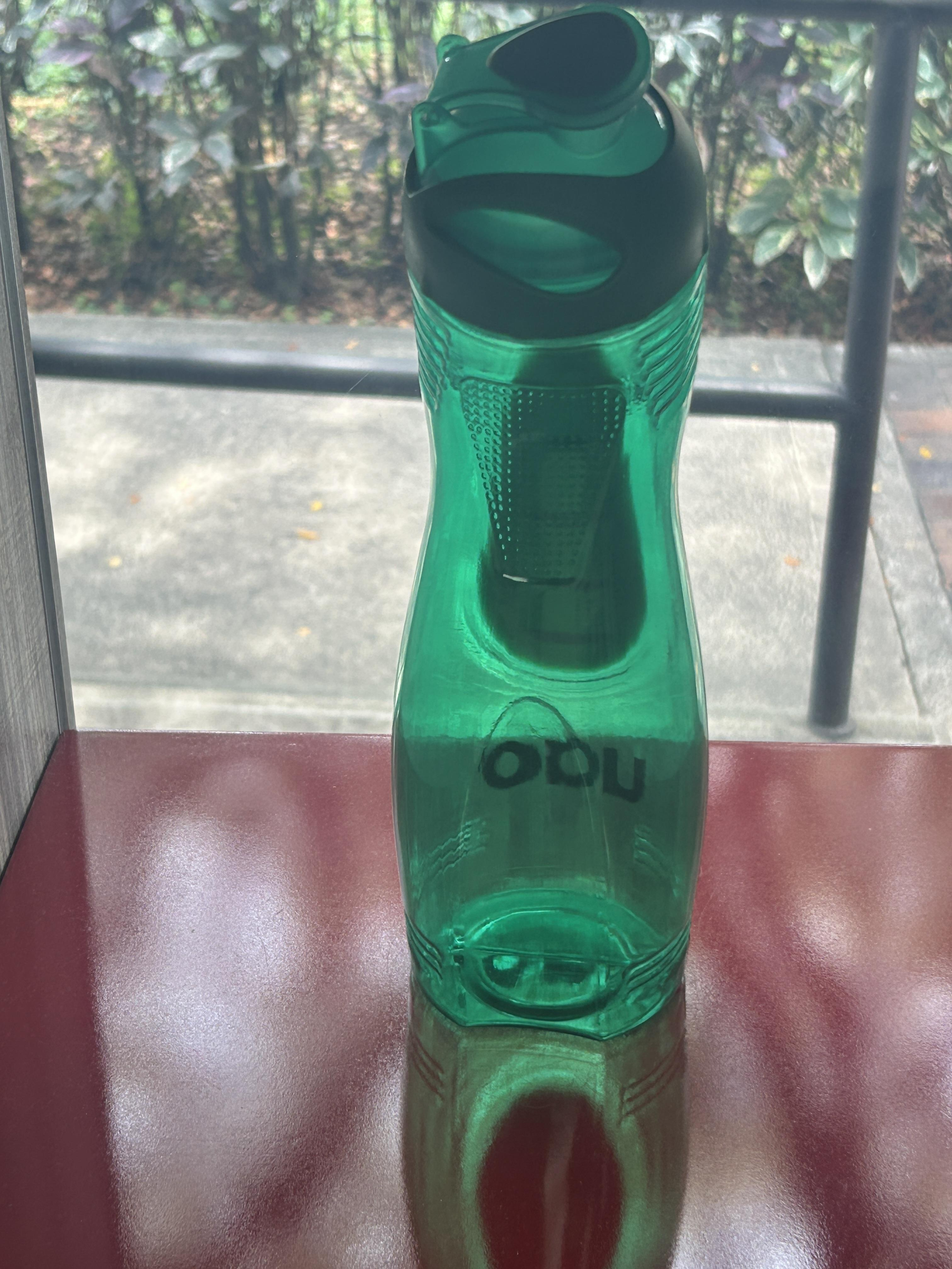termo: (393, 4, 708, 1038)
